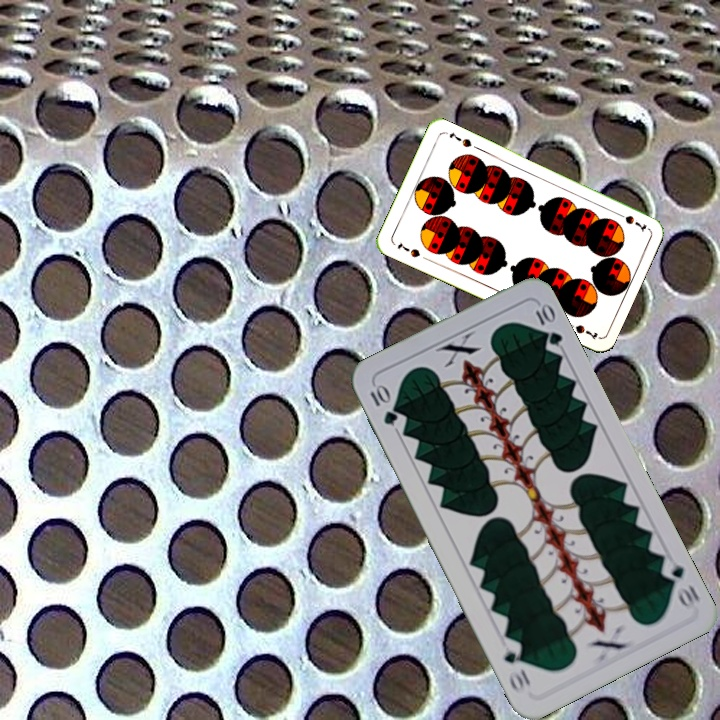G10: (657, 559, 702, 613), (365, 380, 400, 428)
S7: (612, 208, 649, 234), (393, 239, 423, 260)
